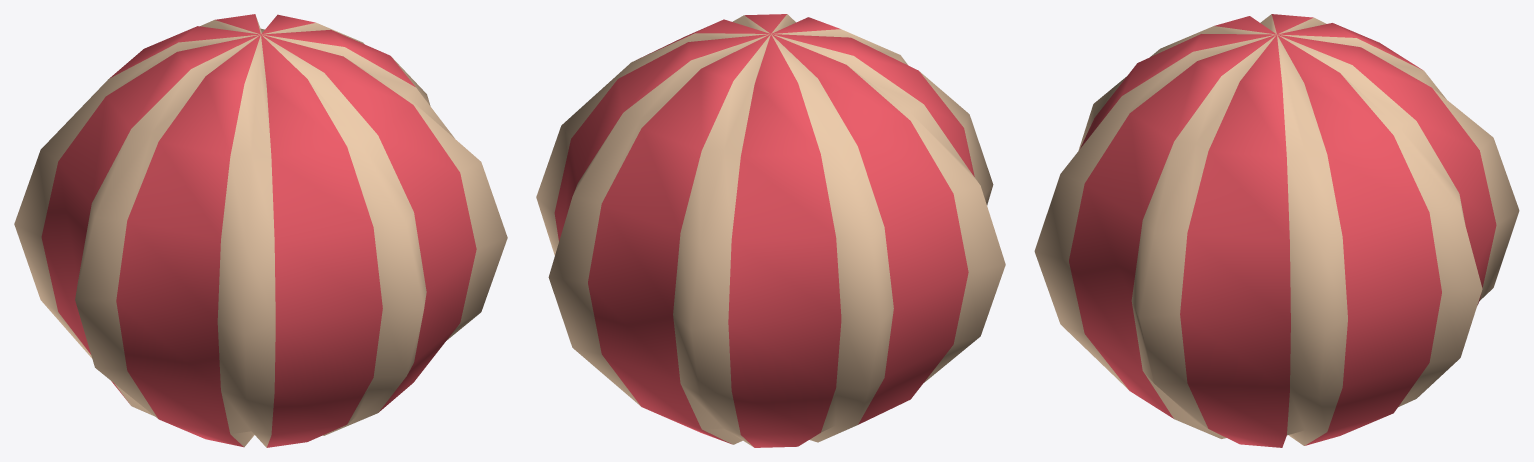
File: SM-BallWeird-002.fbx
The picture shows the model from 3 angles, left to right: view 1: azimuth 30°, elevation 25°; view 2: azimuth 150°, elevation 25°; view 3: azimuth 270°, elevation 25°; orthographic projection.
Parts seen in each view (by area): view 1: Ball.Weird.002; view 2: Ball.Weird.002; view 3: Ball.Weird.002.
Boxes of the visible parts, left/top/right/bottom form: Ball.Weird.002: left=14, top=14, right=507, bottom=447; Ball.Weird.002: left=536, top=14, right=1005, bottom=447; Ball.Weird.002: left=1034, top=14, right=1519, bottom=447.
Bounding box in the file's own units: 22.38 × 20 × 22.38.
